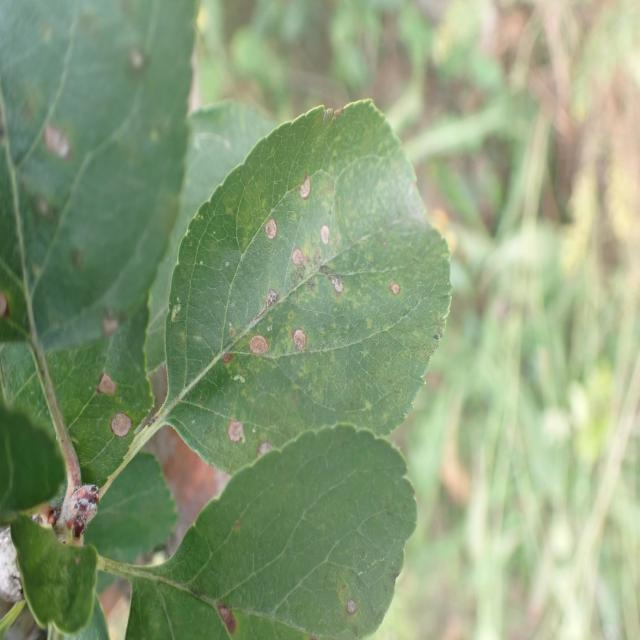frog-eye-leaf-spot: (164, 96, 453, 476), (125, 424, 419, 640)
